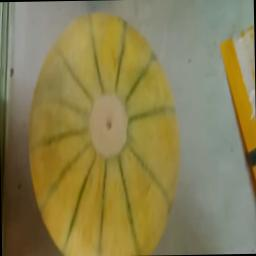Melon Ripe: (20, 1, 200, 256)
